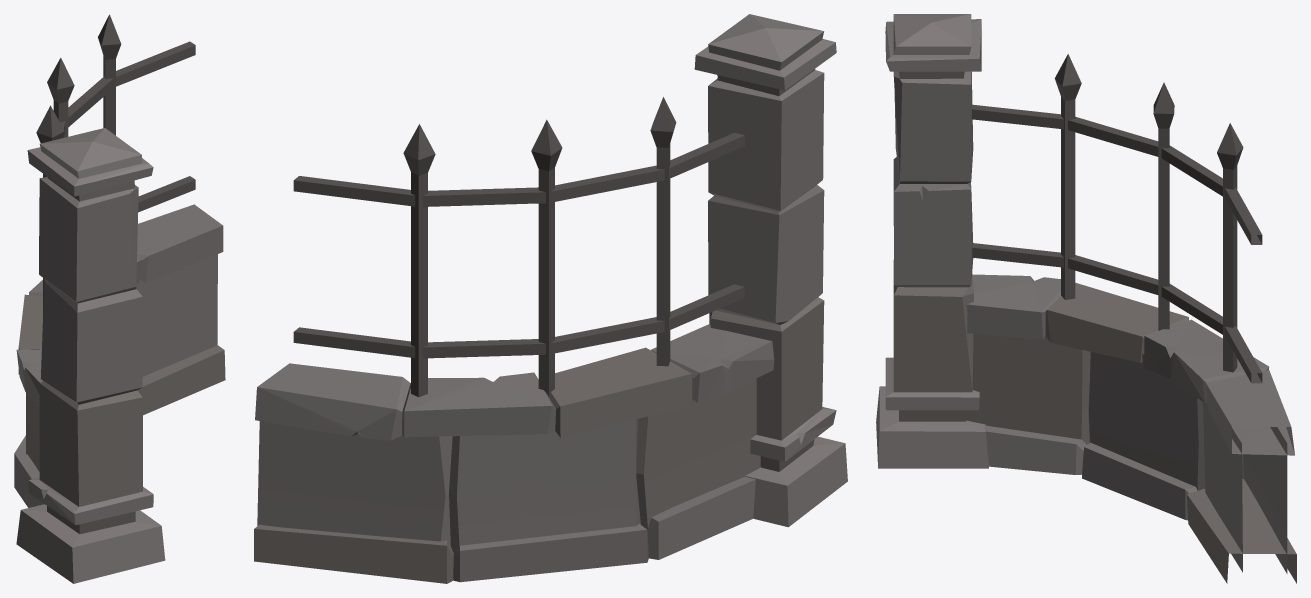
File: CornerSmall.fbx
3 renders of one model, left to right at view 1: azimuth 30°, elevation 25°; view 2: azimuth 150°, elevation 25°; view 3: azimuth 270°, elevation 25°, orthographic. The views are drawn at different scales.
Visible parts, largest first — view 1: wall_graveyard_1m_corner__7_; view 2: wall_graveyard_1m_corner__7_; view 3: wall_graveyard_1m_corner__7_.
Boxes of the visible parts, box(x1,y1,x2,y2) form: wall_graveyard_1m_corner__7_: box(14, 14, 225, 583); wall_graveyard_1m_corner__7_: box(254, 14, 847, 583); wall_graveyard_1m_corner__7_: box(876, 14, 1296, 583).
Bounding box in the file's own units: 119 × 143 × 129.
